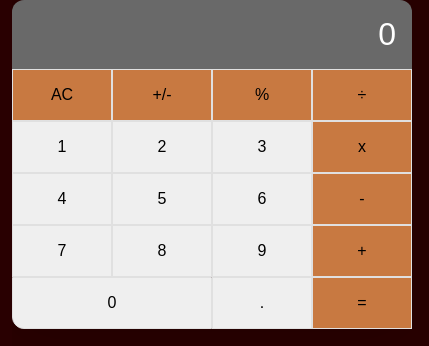
Test case: Calculator › Should do operations
This screenshot has width=429, height=346.
Click the button "5" at (162, 199), box [112, 173, 212, 225]
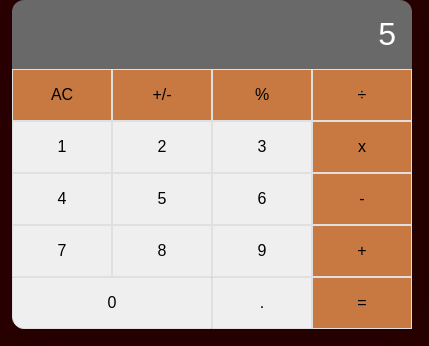
Click the button "x" at (362, 147), box [312, 121, 412, 173]
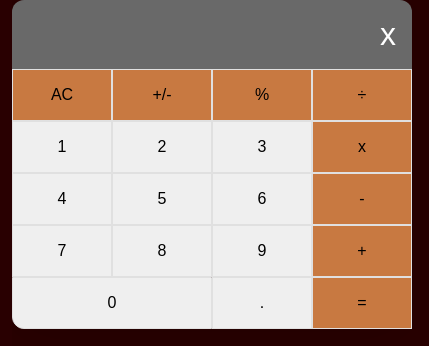
Click the button "7" at (62, 251), box [12, 225, 112, 277]
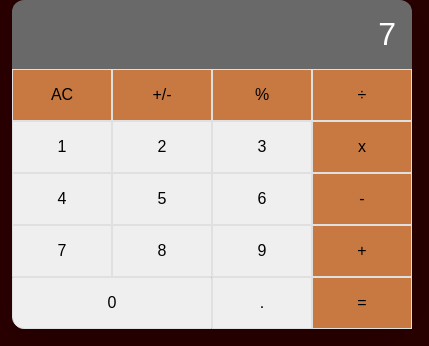
Click the button "=" at (362, 303), box [312, 277, 412, 329]
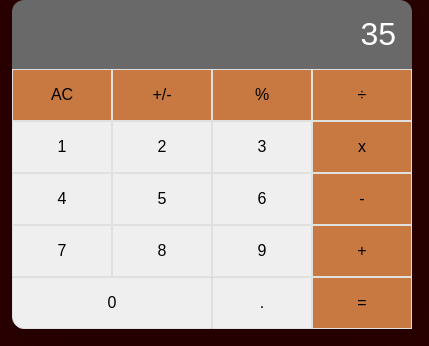
Expected: the text with test id "value" reads "35", [360, 16, 396, 52]
